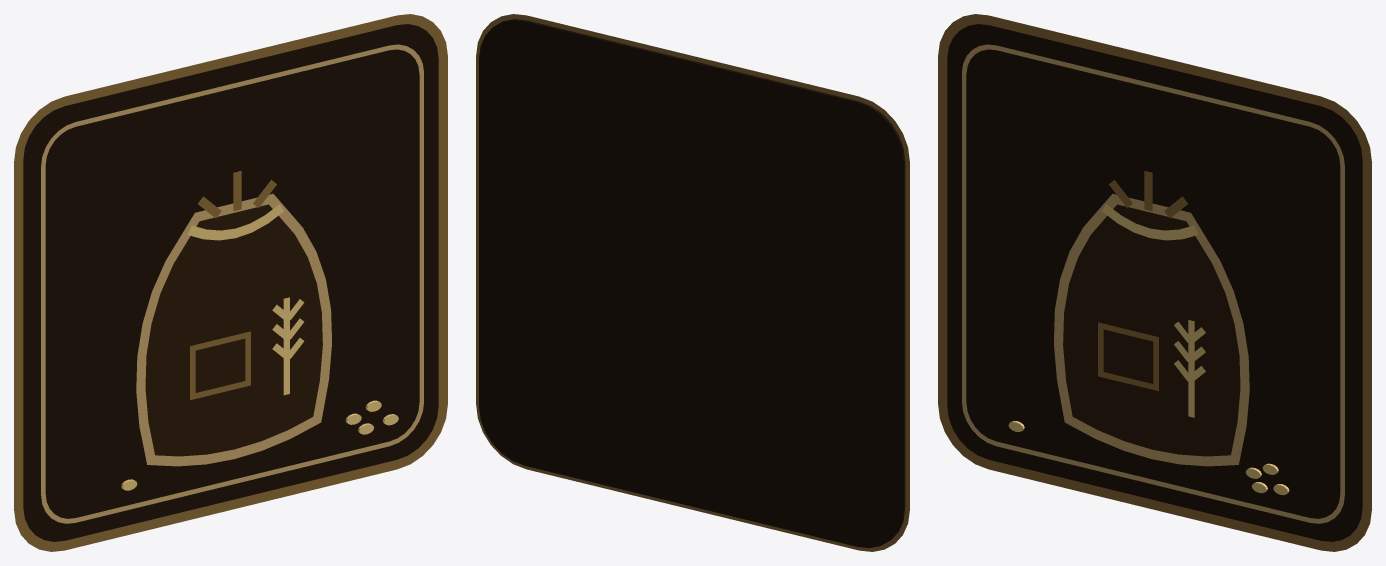
File: obj-meshok-zerna.glb
3 renders of one model, left to right at view 1: azimuth 30°, elevation 25°; view 2: azimuth 150°, elevation 25°; view 3: azimuth 330°, elevation 25°, orthographic.
Parts seen in each view (by area): view 1: obj-meshok-zerna; view 2: obj-meshok-zerna; view 3: obj-meshok-zerna.
Boxes of the visible parts, left/top/right/bottom form: obj-meshok-zerna: left=14, top=14, right=447, bottom=551; obj-meshok-zerna: left=476, top=14, right=909, bottom=551; obj-meshok-zerna: left=938, top=14, right=1371, bottom=551.
Bounding box in the file's own units: 0.3917 × 0.3917 × 0.0325.
